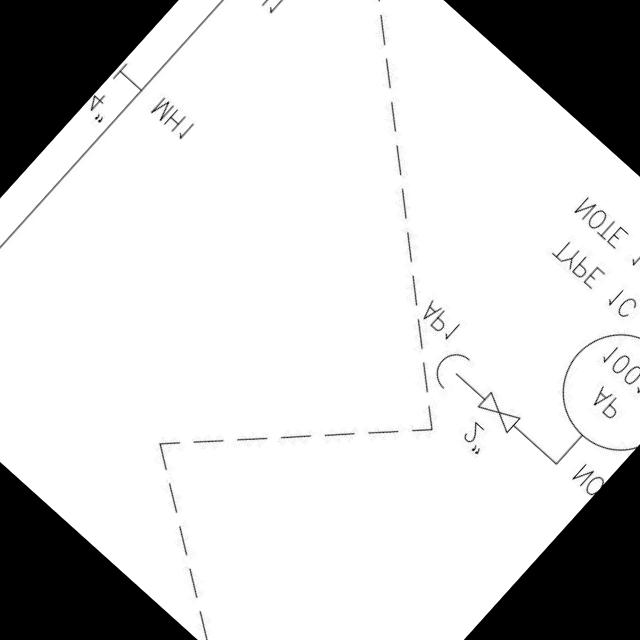GV: (468, 384, 525, 440)
